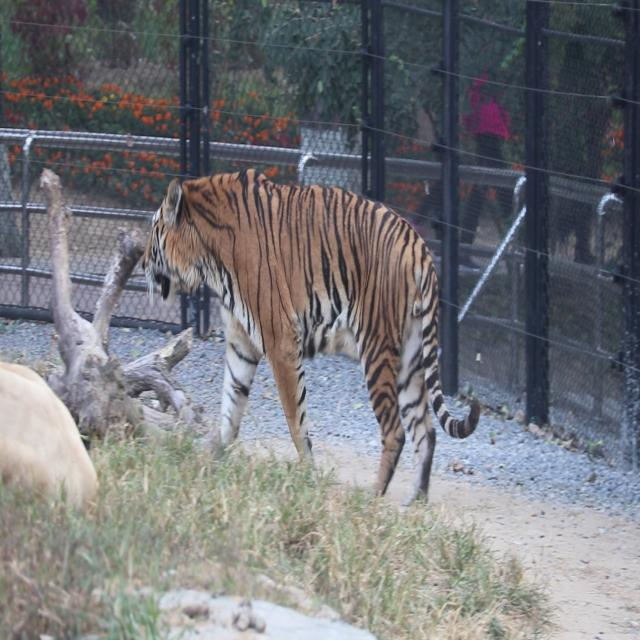Tiger: (141, 122, 483, 526)
